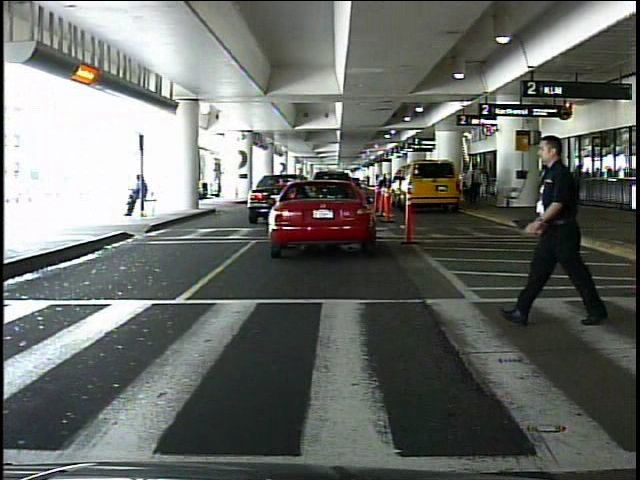person: (527, 134, 621, 331)
